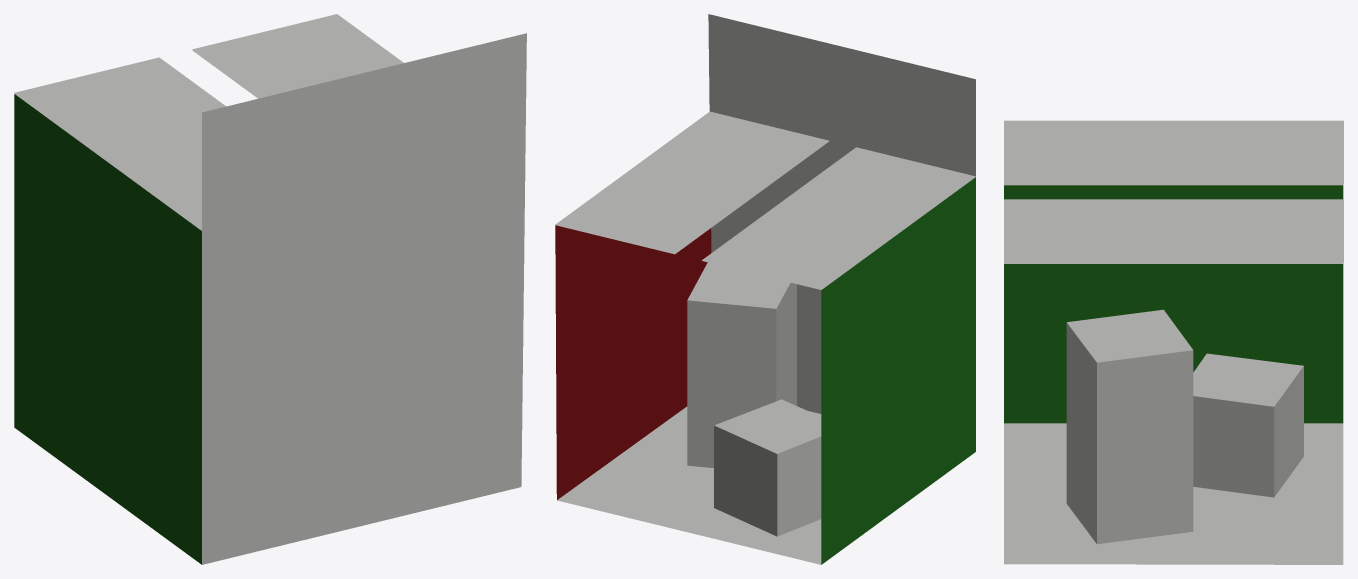
File: cornell_box.obj
The picture shows the model from 3 angles, left to right: view 1: azimuth 30°, elevation 25°; view 2: azimuth 150°, elevation 25°; view 3: azimuth 270°, elevation 25°; orthographic projection. The views are drawn at different scales.
Parts seen in each view (by area): view 1: back_wall, green_wall, ceiling_right_dbl, ceiling_left_dbl; view 2: green_wall, back_wall, red_wall, ceiling_left_dbl, ceiling_right_dbl, tall_block, floor, short_block; view 3: green_wall, tall_block, floor, ceiling_left_dbl, ceiling_right_dbl, short_block, ceiling_right.
Part boxes in pixels (x1,y1,x2,y2): back_wall: (202,33,526,564); green_wall: (14,94,201,564); ceiling_right_dbl: (14,57,225,229); ceiling_left_dbl: (192,14,403,98); green_wall: (821,177,975,564); back_wall: (708,14,975,413); red_wall: (555,225,711,499); ceiling_left_dbl: (555,111,828,253); ceiling_right_dbl: (702,147,975,289); tall_block: (687,262,796,467); floor: (557,406,821,564); short_block: (714,399,821,536); green_wall: (1004,185,1343,423); tall_block: (1066,309,1193,544); floor: (1004,423,1343,564); ceiling_left_dbl: (1004,199,1343,263); ceiling_right_dbl: (1004,120,1343,184); short_block: (1193,353,1303,497); ceiling_right: (1004,184,1342,185).
Size of the model in its own units: 559 by 744 by 560.
